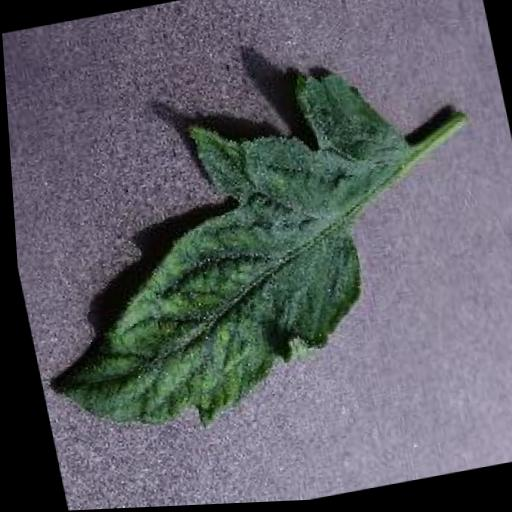Mosaic Virus: (4, 53, 455, 453)
